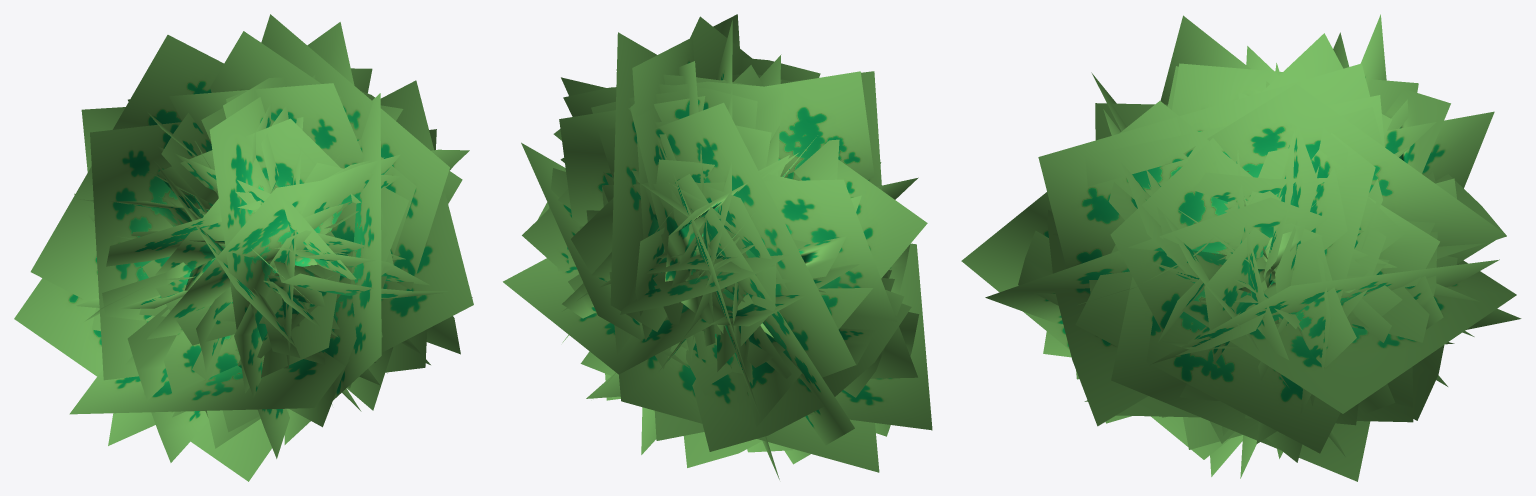
File: Bush.fbx
3 renders of one model, left to right at view 1: azimuth 30°, elevation 25°; view 2: azimuth 150°, elevation 25°; view 3: azimuth 270°, elevation 25°, orthographic. The views are drawn at different scales.
Parts seen in each view (by area): view 1: Bush__3_; view 2: Bush__3_; view 3: Bush__3_.
Boxes of the visible parts, left/top/right/bottom form: Bush__3_: left=14, top=14, right=473, bottom=481; Bush__3_: left=503, top=14, right=932, bottom=479; Bush__3_: left=961, top=14, right=1521, bottom=481.
Size of the model in its own units: 11.24 by 11.52 by 12.47.
